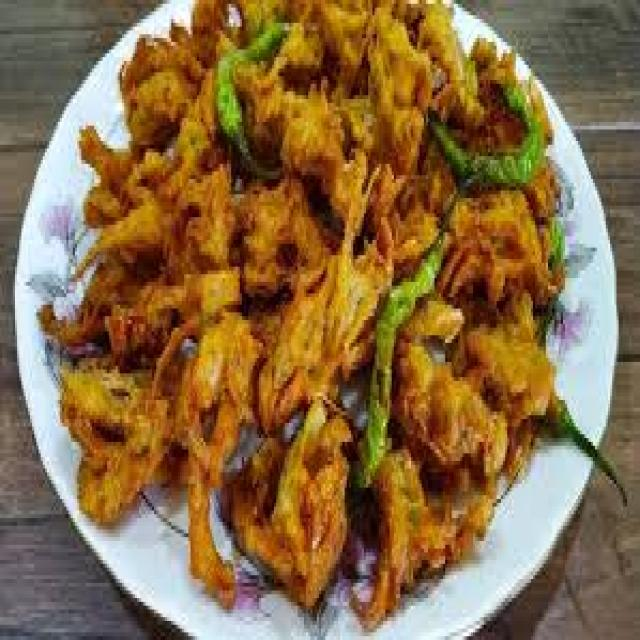BAJI: (33, 0, 565, 627)
